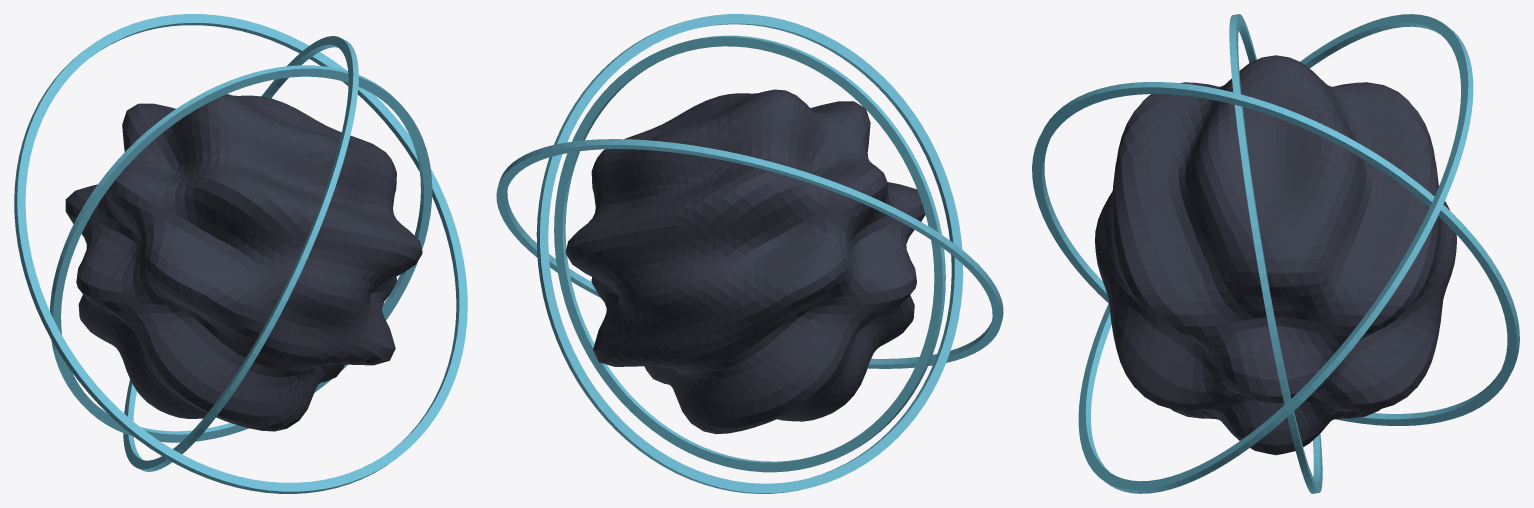
File: gpu-artifact.glb
The picture shows the model from 3 angles, left to right: view 1: azimuth 30°, elevation 25°; view 2: azimuth 150°, elevation 25°; view 3: azimuth 270°, elevation 25°; orthographic projection. The views are drawn at different scales.
Visible parts, largest first — view 1: ufo-sacred-geometry_obsidian_core, ufo-sacred-geometry_orbital_ring_2, ufo-sacred-geometry_orbital_ring_0, ufo-sacred-geometry_orbital_ring_1; view 2: ufo-sacred-geometry_obsidian_core, ufo-sacred-geometry_orbital_ring_1, ufo-sacred-geometry_orbital_ring_0, ufo-sacred-geometry_orbital_ring_2; view 3: ufo-sacred-geometry_obsidian_core, ufo-sacred-geometry_orbital_ring_1, ufo-sacred-geometry_orbital_ring_2, ufo-sacred-geometry_orbital_ring_0.
Part boxes in pixels (box(x1,y1,x2,y2)): ufo-sacred-geometry_obsidian_core: box(65, 94, 422, 431); ufo-sacred-geometry_orbital_ring_2: box(14, 14, 467, 493); ufo-sacred-geometry_orbital_ring_0: box(50, 65, 432, 442); ufo-sacred-geometry_orbital_ring_1: box(123, 36, 358, 471); ufo-sacred-geometry_obsidian_core: box(565, 89, 925, 434); ufo-sacred-geometry_orbital_ring_1: box(536, 14, 963, 493); ufo-sacred-geometry_orbital_ring_0: box(554, 35, 945, 472); ufo-sacred-geometry_orbital_ring_2: box(496, 139, 1003, 368); ufo-sacred-geometry_obsidian_core: box(1095, 55, 1456, 455); ufo-sacred-geometry_orbital_ring_1: box(1032, 82, 1519, 425); ufo-sacred-geometry_orbital_ring_2: box(1078, 14, 1473, 493); ufo-sacred-geometry_orbital_ring_0: box(1229, 14, 1322, 493).
Bounding box in the file's own units: 3.22 × 2.72 × 2.77.
